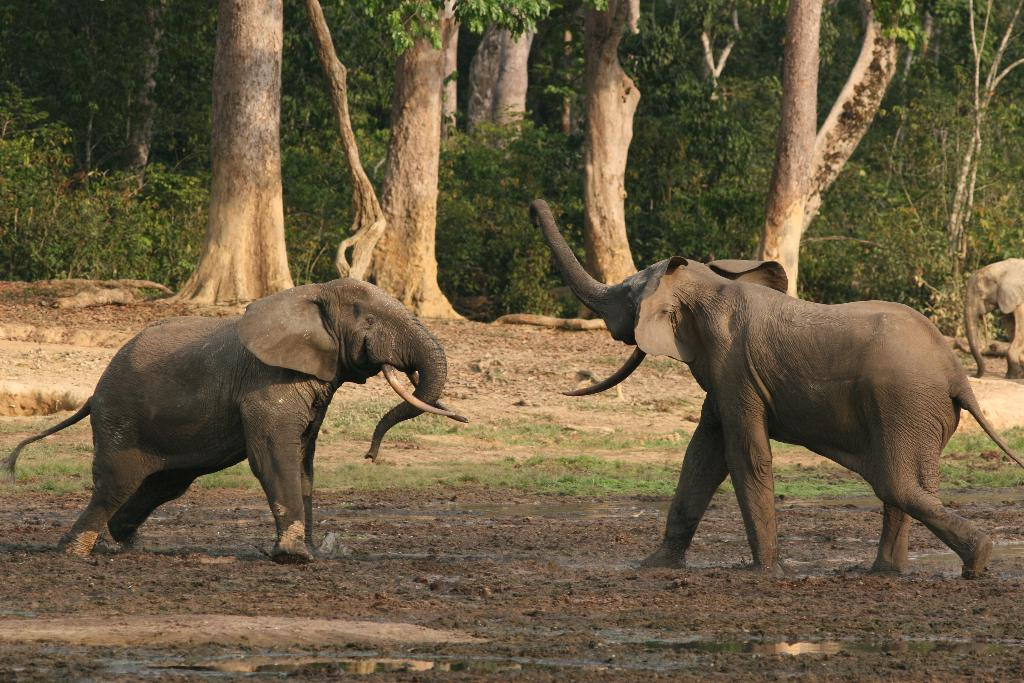Tree: (3, 0, 1023, 316)
